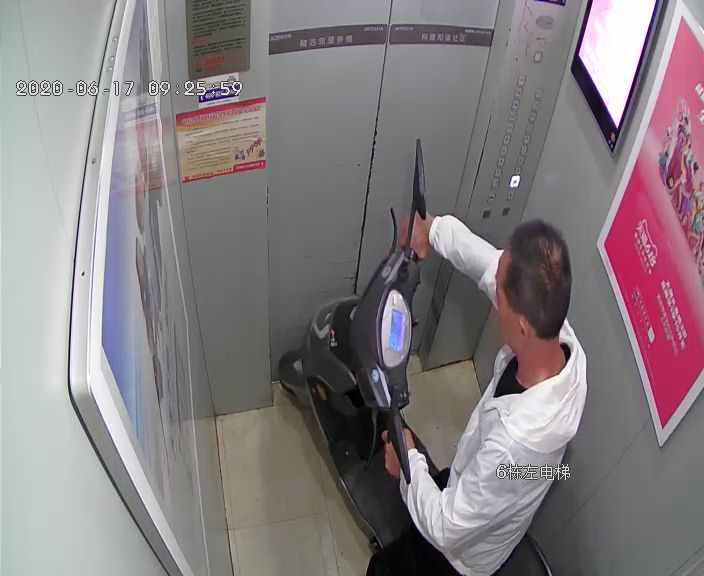Electric-bicycle: (278, 134, 551, 574)
